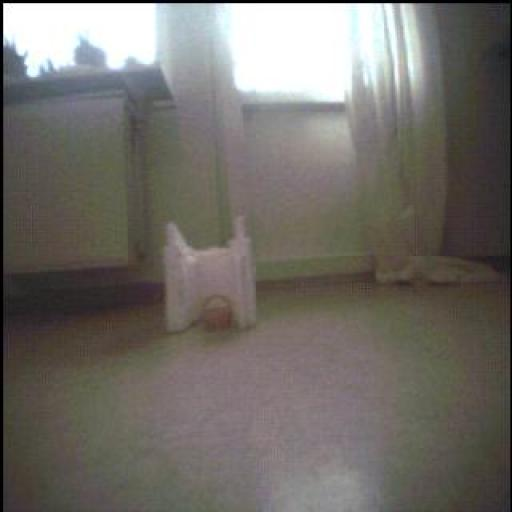Basket: (203, 296, 233, 333)
